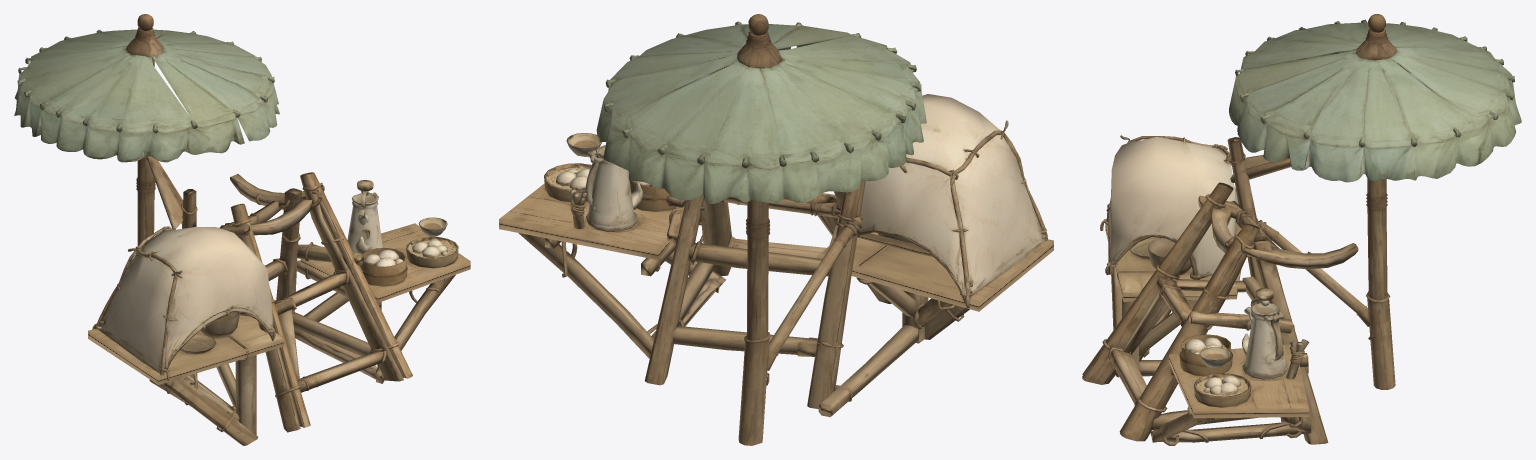
File: 早餐摊贩.glb
The picture shows the model from 3 angles, left to right: view 1: azimuth 30°, elevation 25°; view 2: azimuth 150°, elevation 25°; view 3: azimuth 270°, elevation 25°; orthographic projection. The views are drawn at different scales.
Parts seen in each view (by area): view 1: tripo_node_14dd595f-16e5-4347-a4e8-2103297854fa; view 2: tripo_node_14dd595f-16e5-4347-a4e8-2103297854fa; view 3: tripo_node_14dd595f-16e5-4347-a4e8-2103297854fa.
Part boxes in pixels (<box>): tripo_node_14dd595f-16e5-4347-a4e8-2103297854fa: <box>14,14,470,445</box>; tripo_node_14dd595f-16e5-4347-a4e8-2103297854fa: <box>499,14,1053,445</box>; tripo_node_14dd595f-16e5-4347-a4e8-2103297854fa: <box>1082,14,1521,445</box>.
Size of the model in its own units: 0.9995 by 0.9146 by 0.9731.
Materials: 1 (1 with a texture image).
